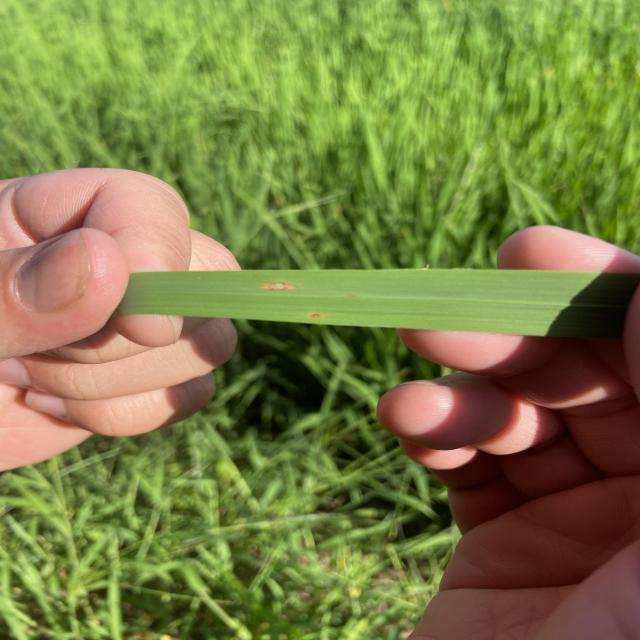Dao on: (264, 283, 290, 289), (311, 314, 320, 318)
